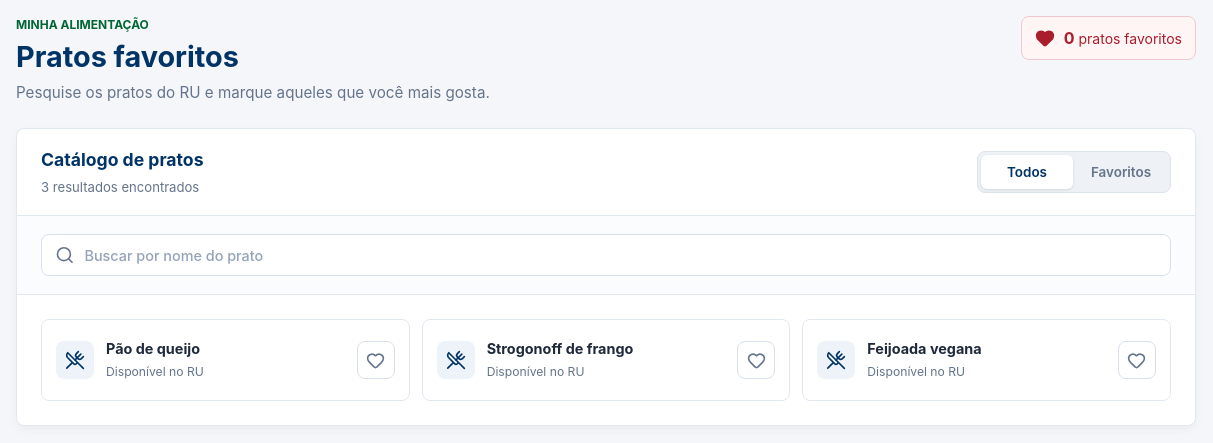
Test: FavoritosClient › adiciona um favorito e atualiza a contagem
Click the button named "Adicionar Feijoada vegana aos favoritos" at (1137, 360), box [1118,341,1156,379]
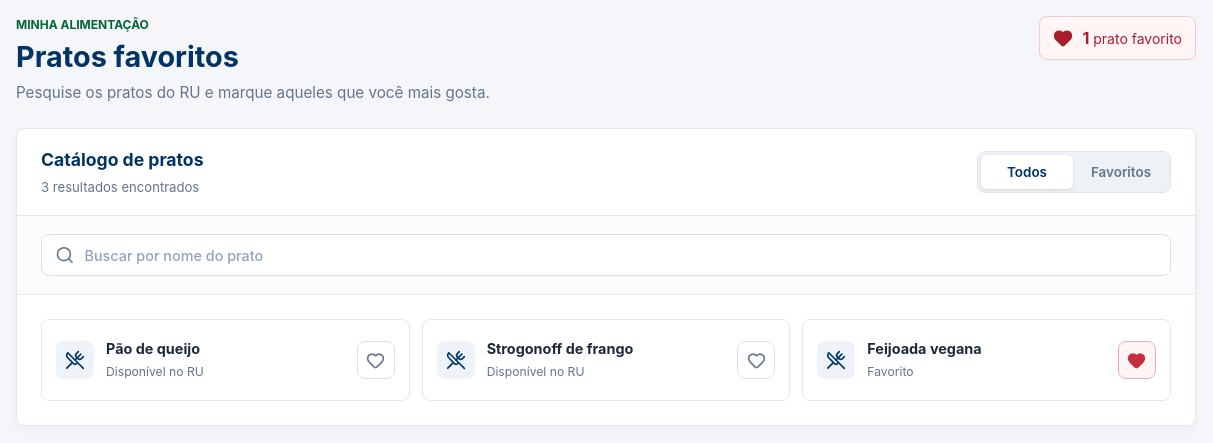
Expected: the text "1" is shown, [1082,28,1089,48]
